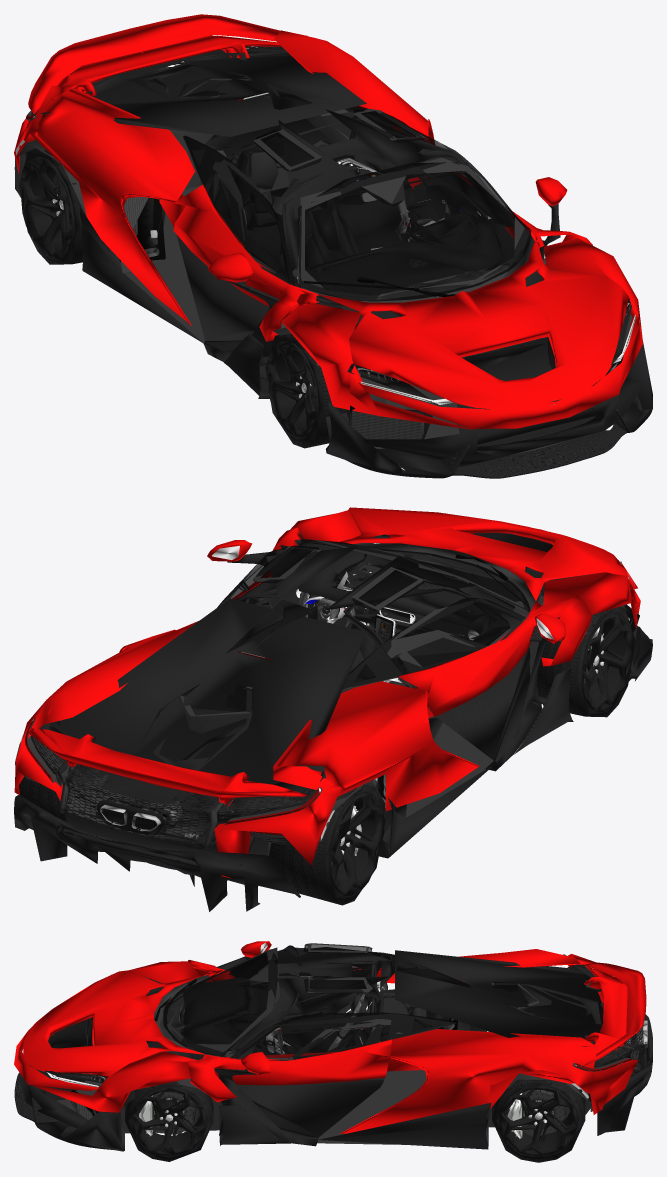
The model's file is mclaren-w1.lod.glb.
3 renders of one model, top to bottom at view 1: azimuth 30°, elevation 25°; view 2: azimuth 150°, elevation 25°; view 3: azimuth 270°, elevation 25°, orthographic. The views are drawn at different scales.
Parts seen in each view (by area): view 1: EXT_CARBON_1_52, ext_Body_fenders_54, Plane.015_20, ext_Body_hood_55, EXT_PLASTIC_2_48, int_leather_paint1_95, Plane.056_4, ext_Body_spoiler_140, INT_CARBON_AO_3_94, INT_CARBON_AO_2_93, Plane.037_6, ext_Body_doors_56 (+9 smaller); view 2: EXT_CARBON_1_52, ext_Body_fenders_54, Plane.015_20, ext_Body_hood_55, EXT_PLASTIC_3_49, Plane.056_4, Plane.037_6, ext_Body_doors_56, ext_Body_spoiler_140, INT_CARBON_AO_3_94, EXT_PLASTIC_2_48, INT_CARBON_AO_2_93 (+12 smaller); view 3: EXT_CARBON_1_52, ext_Body_fenders_54, Plane.015_20, ext_Body_hood_55, ext_Body_doors_56, Plane.056_4, INT_CARBON_AO_3_94, int_leather_paint1_95, EXT_PLASTIC_2_48, Plane.037_6, ext_Body_spoiler_140, EXT_RIM.001_SUB0_64 (+11 smaller).
Boxes of the visible parts, <box> form: EXT_CARBON_1_52: <box>14,53,652,478</box>; ext_Body_fenders_54: <box>14,30,642,430</box>; Plane.015_20: <box>182,79,531,301</box>; ext_Body_hood_55: <box>318,240,628,409</box>; EXT_PLASTIC_2_48: <box>25,64,643,466</box>; int_leather_paint1_95: <box>243,132,502,304</box>; Plane.056_4: <box>180,78,534,309</box>; ext_Body_spoiler_140: <box>28,14,281,114</box>; INT_CARBON_AO_3_94: <box>281,134,522,298</box>; INT_CARBON_AO_2_93: <box>205,111,514,328</box>; Plane.037_6: <box>17,52,632,468</box>; ext_Body_doors_56: <box>173,140,592,341</box>; EXT_CARBON_1_52: <box>14,546,652,911</box>; ext_Body_fenders_54: <box>14,510,640,878</box>; Plane.015_20: <box>180,539,530,712</box>; ext_Body_hood_55: <box>340,507,628,600</box>; EXT_PLASTIC_3_49: <box>30,723,325,848</box>; Plane.056_4: <box>179,539,541,716</box>; Plane.037_6: <box>34,531,634,856</box>; ext_Body_doors_56: <box>177,527,592,716</box>; ext_Body_spoiler_140: <box>28,728,308,806</box>; INT_CARBON_AO_3_94: <box>280,541,521,628</box>; EXT_PLASTIC_2_48: <box>22,532,631,845</box>; INT_CARBON_AO_2_93: <box>236,550,522,679</box>; EXT_CARBON_1_52: <box>14,950,652,1151</box>; ext_Body_fenders_54: <box>14,949,638,1133</box>; Plane.015_20: <box>163,943,517,1059</box>; ext_Body_hood_55: <box>23,970,203,1076</box>; ext_Body_doors_56: <box>188,960,391,1102</box>; Plane.056_4: <box>154,943,539,1060</box>; INT_CARBON_AO_3_94: <box>166,945,352,1052</box>; int_leather_paint1_95: <box>180,961,376,1054</box>; EXT_PLASTIC_2_48: <box>19,960,603,1128</box>; Plane.037_6: <box>56,975,639,1148</box>; ext_Body_spoiler_140: <box>584,962,646,1065</box>; EXT_RIM.001_SUB0_64: <box>499,1085,577,1156</box>.
Bounding box in the file's own units: 2.19 × 1.14 × 4.62.
42 materials, 18 textured.
